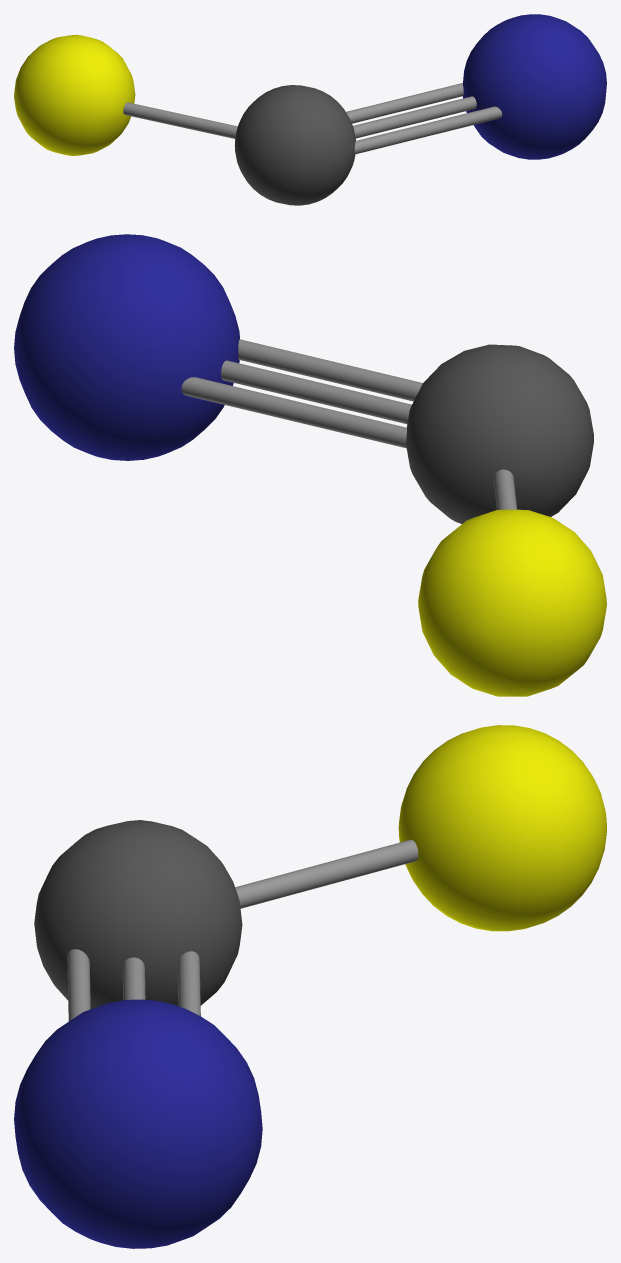
The model's file is HCN.fbx.
The picture shows the model from 3 angles, top to bottom: view 1: azimuth 30°, elevation 25°; view 2: azimuth 150°, elevation 25°; view 3: azimuth 270°, elevation 25°; orthographic projection. The views are drawn at different scales.
Parts seen in each view (by area): view 1: HCN; view 2: HCN; view 3: HCN.
Boxes of the visible parts, x1,y1,x2,y2 form: HCN: [14, 14, 606, 205]; HCN: [14, 234, 606, 696]; HCN: [14, 725, 606, 1248].
Bounding box in the file's own units: 7.44 × 2 × 4.75.
